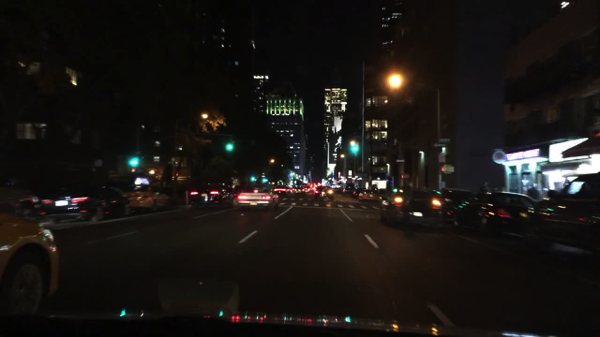car: (0, 201, 60, 313), (521, 173, 599, 255), (15, 180, 126, 229), (451, 190, 534, 236), (379, 188, 444, 232), (124, 176, 172, 213), (232, 182, 279, 212), (435, 187, 473, 223), (188, 183, 236, 211), (0, 179, 33, 213), (312, 186, 335, 201), (359, 188, 380, 202), (350, 186, 367, 198), (274, 184, 290, 196), (342, 183, 355, 196), (295, 185, 305, 195), (303, 184, 310, 195), (288, 186, 296, 195), (308, 184, 316, 191)
person: (527, 185, 539, 201), (479, 181, 490, 191)
traffic light: (440, 166, 455, 173), (131, 153, 138, 166), (399, 173, 410, 180), (352, 142, 358, 154), (171, 170, 179, 179), (126, 167, 135, 173), (226, 138, 230, 149), (249, 174, 255, 181), (261, 178, 267, 184)
traffic sign: (432, 142, 445, 149), (437, 154, 446, 162), (438, 138, 451, 143), (394, 158, 406, 163), (346, 169, 352, 176)
